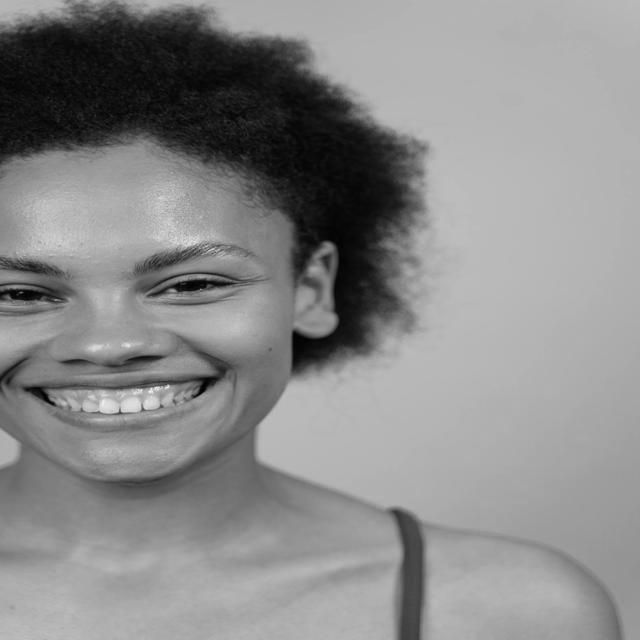Happiness: (0, 150, 293, 482)
